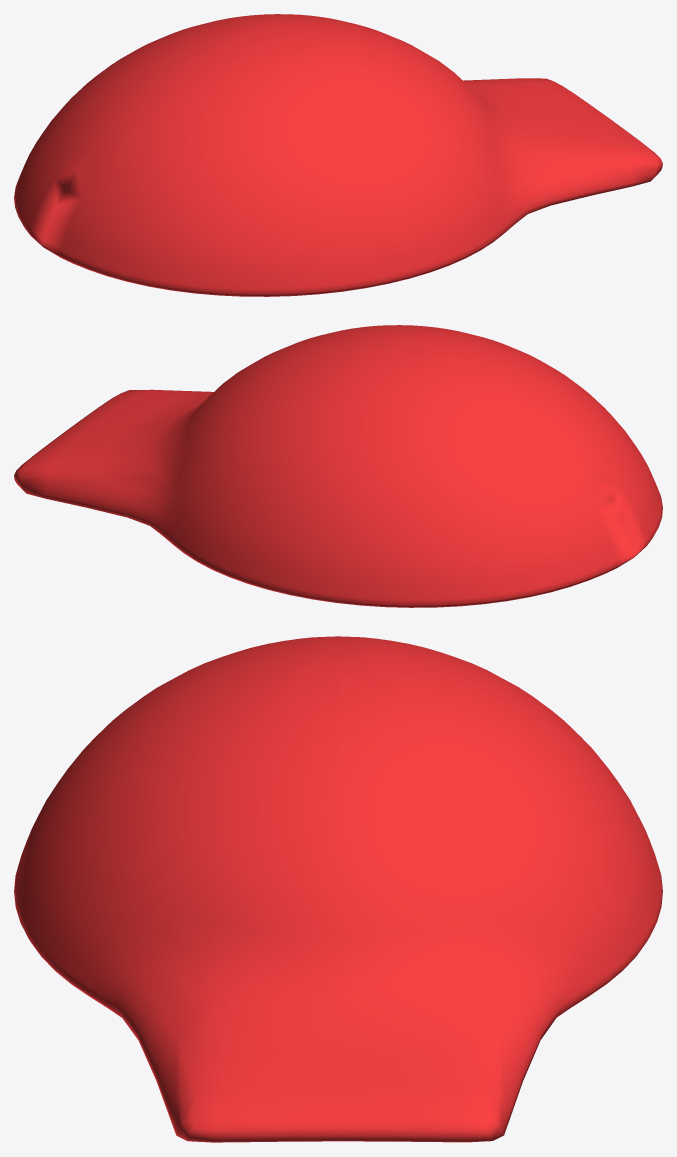
File: CappelloBase.fbx
3 renders of one model, top to bottom at view 1: azimuth 30°, elevation 25°; view 2: azimuth 150°, elevation 25°; view 3: azimuth 270°, elevation 25°, orthographic. The views are drawn at different scales.
Parts seen in each view (by area): view 1: body.009; view 2: body.009; view 3: body.009.
Part boxes in pixels (x1=…): body.009: x1=14, y1=14, x2=662, y2=296; body.009: x1=14, y1=325, x2=662, y2=607; body.009: x1=14, y1=636, x2=662, y2=1142.
Bounding box in the file's own units: 48.84 × 14.61 × 35.16.
